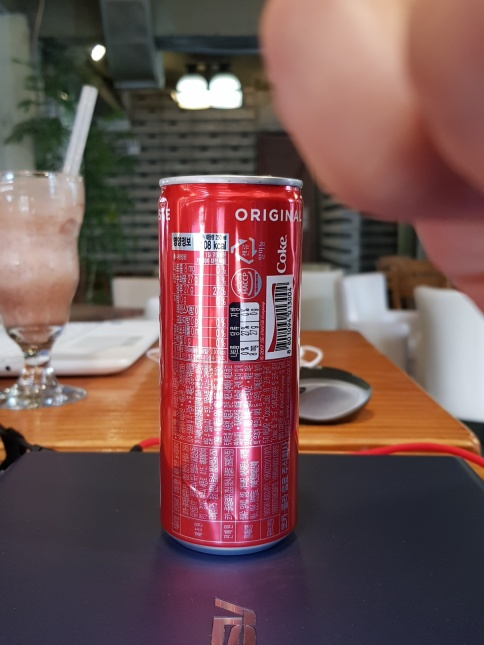Can: (152, 171, 305, 557)
